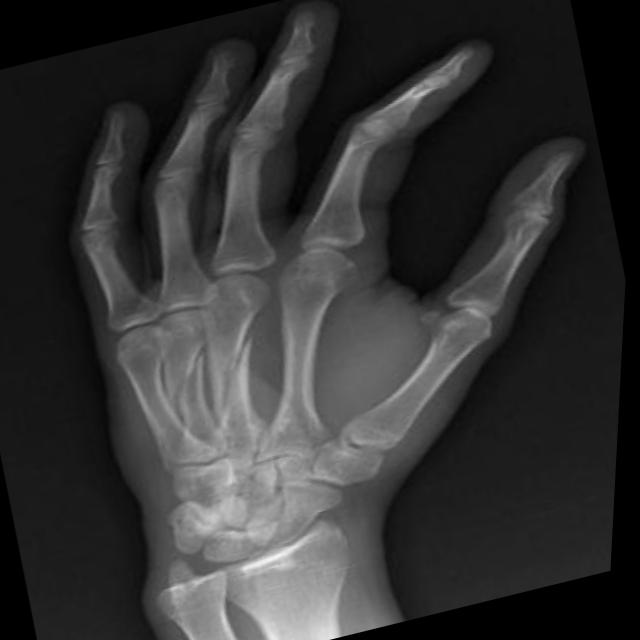fracture: (217, 324, 291, 418), (155, 339, 228, 434)
